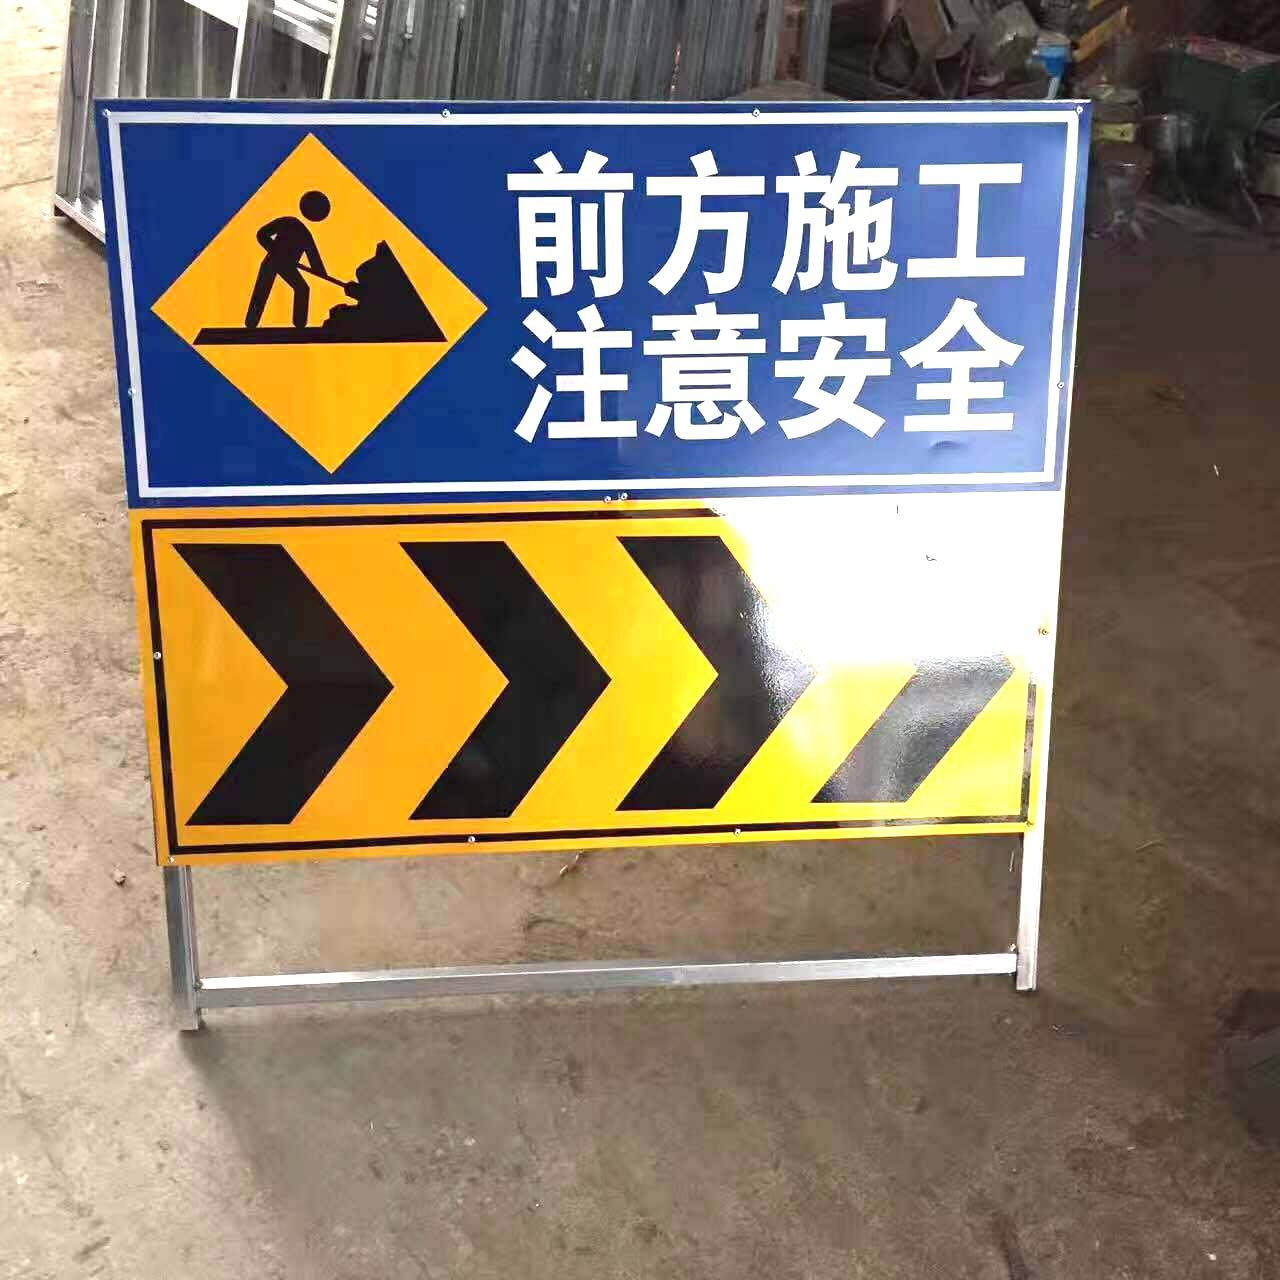sign: (105, 100, 1071, 839)
